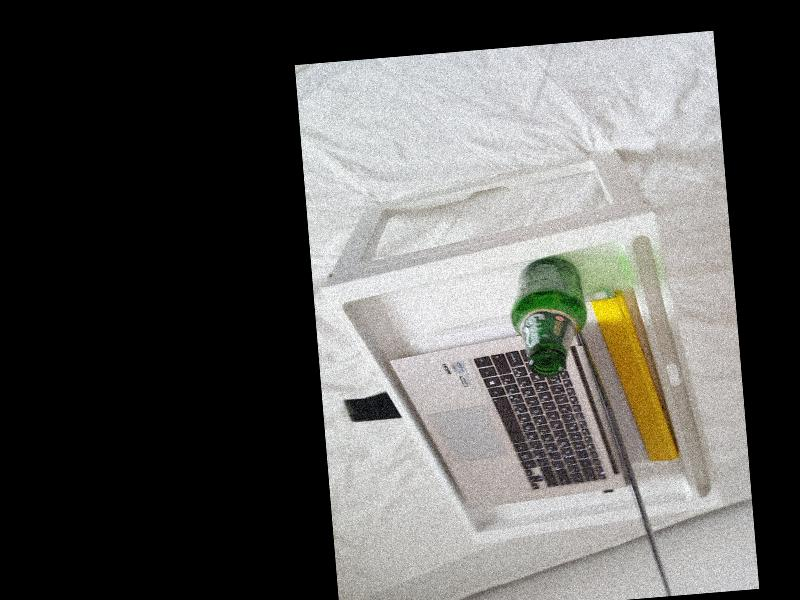Beer: (508, 254, 590, 378)
